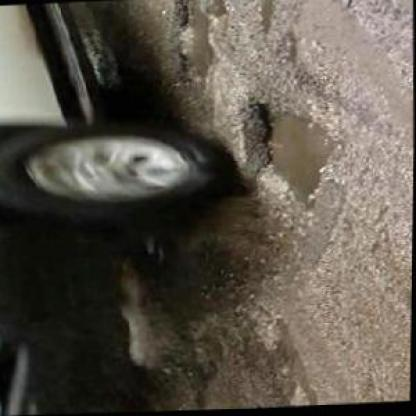pothole: (240, 101, 341, 219), (166, 0, 233, 85), (269, 33, 298, 65), (255, 0, 276, 37), (387, 0, 412, 22)
